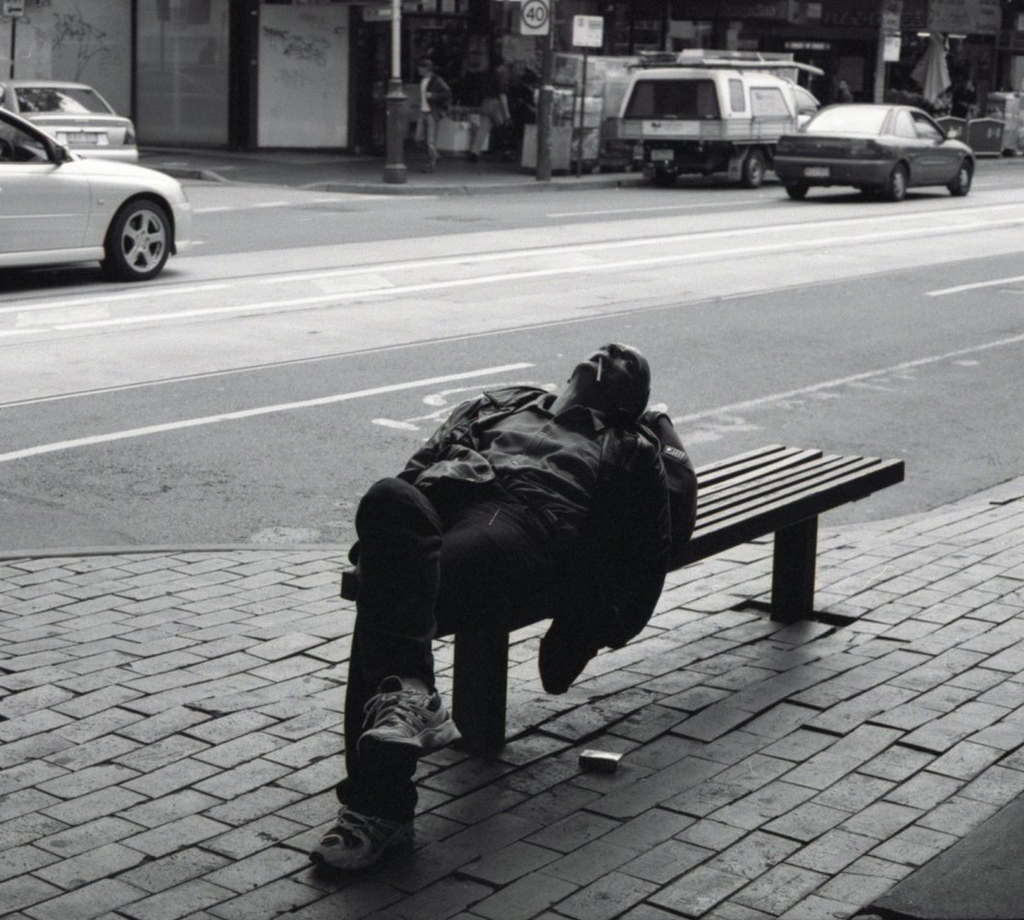Car: (0, 105, 188, 282), (771, 105, 975, 204), (0, 77, 138, 163)
